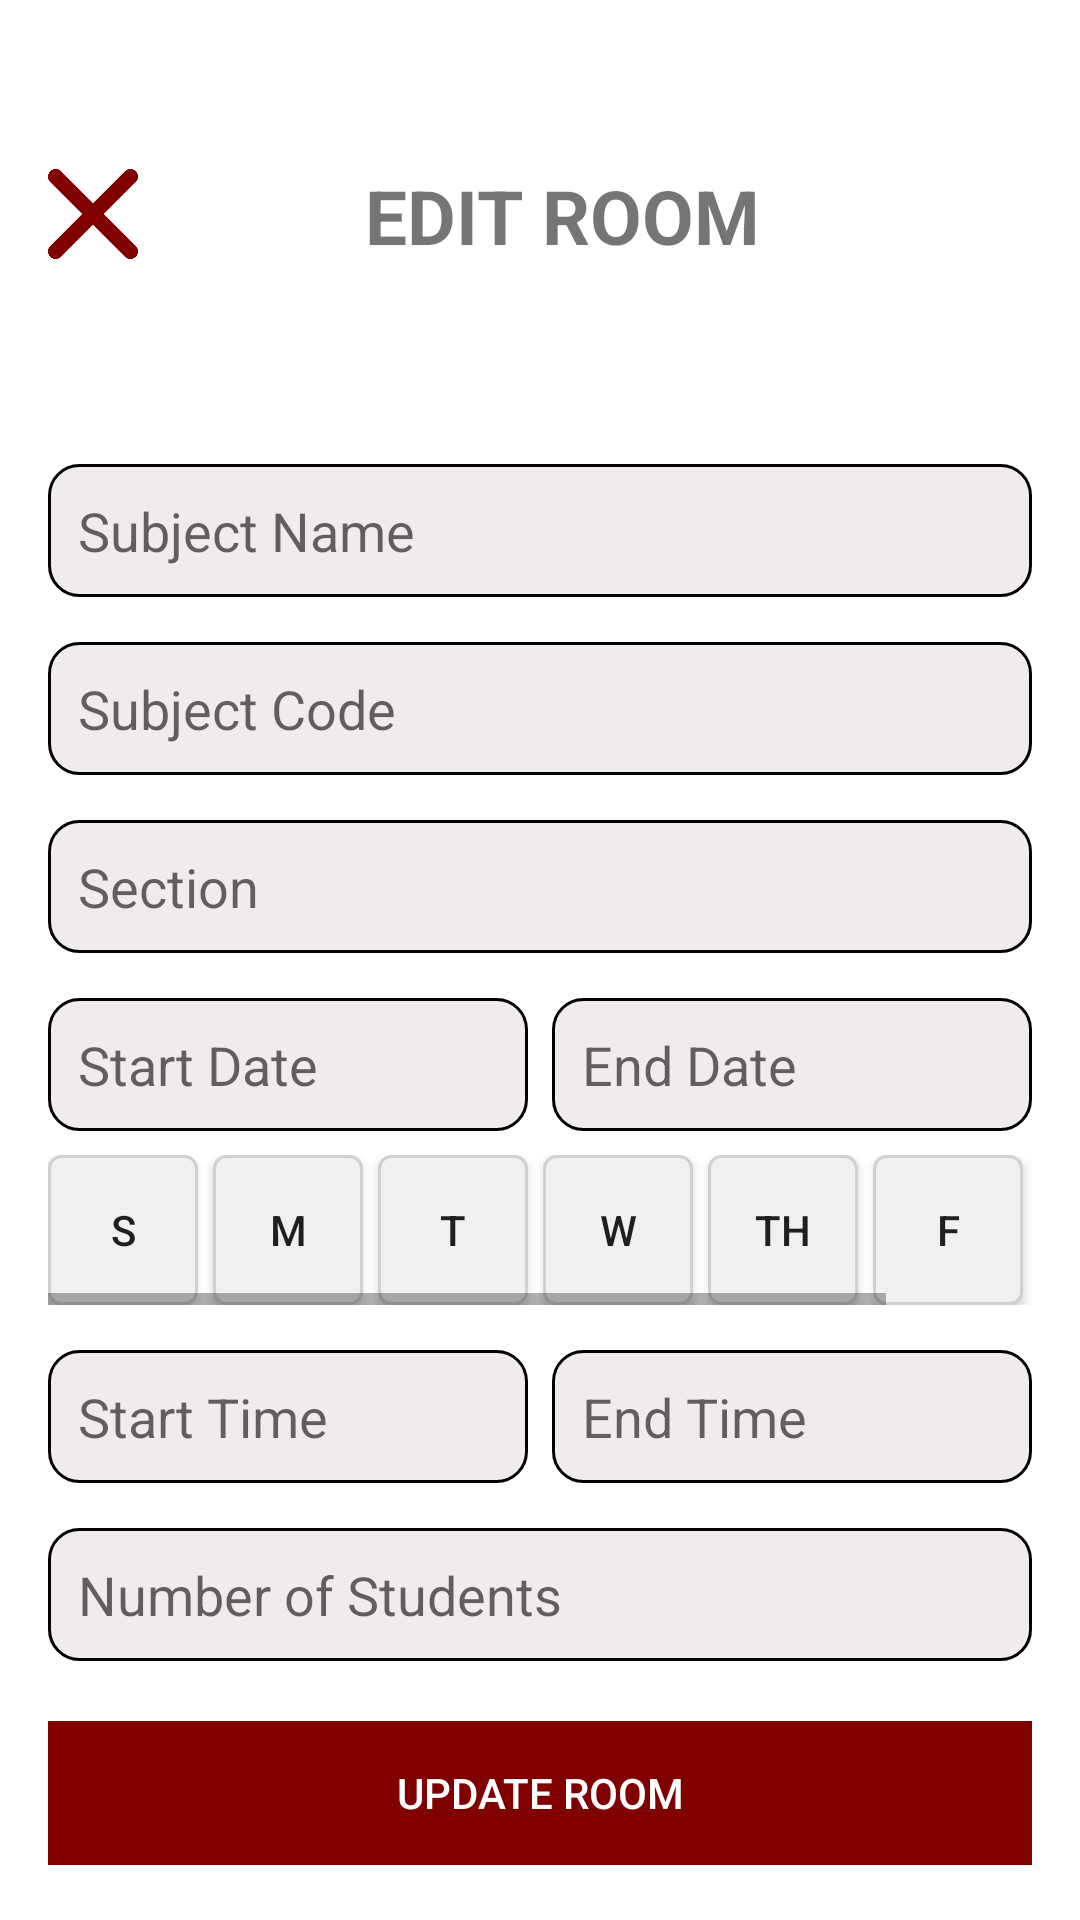

Where to tap for icons on this 1080x1920 app screen, as point (x, y):
back: point (93, 214)
